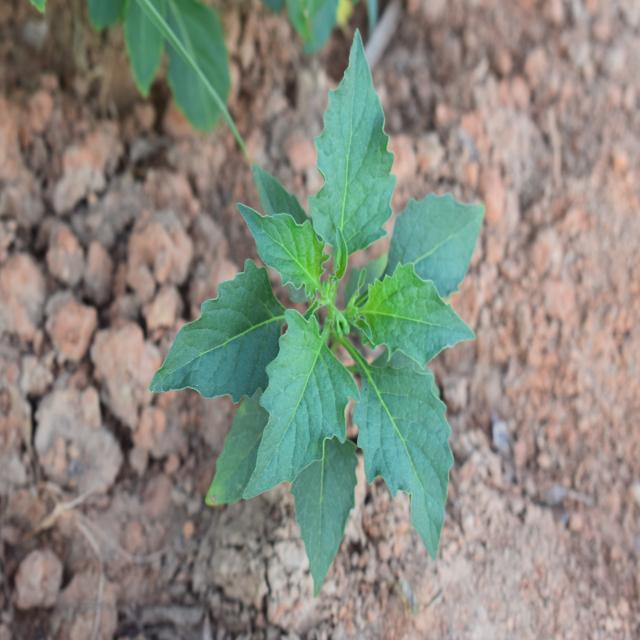Black_nightshade: (170, 130, 496, 549)
